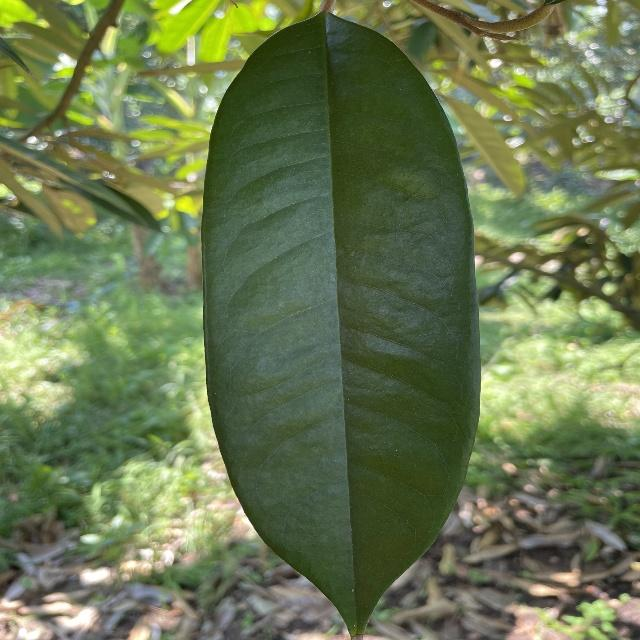No Disease: (197, 5, 487, 640)
